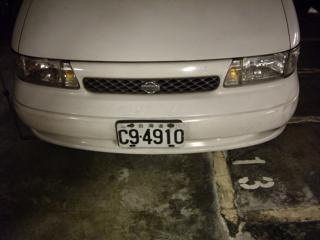plate: (114, 120, 186, 149)
